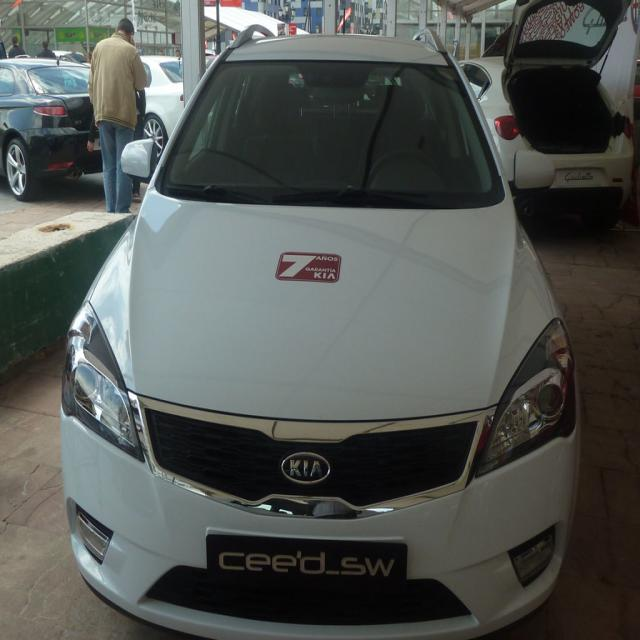car: (51, 20, 550, 629)
